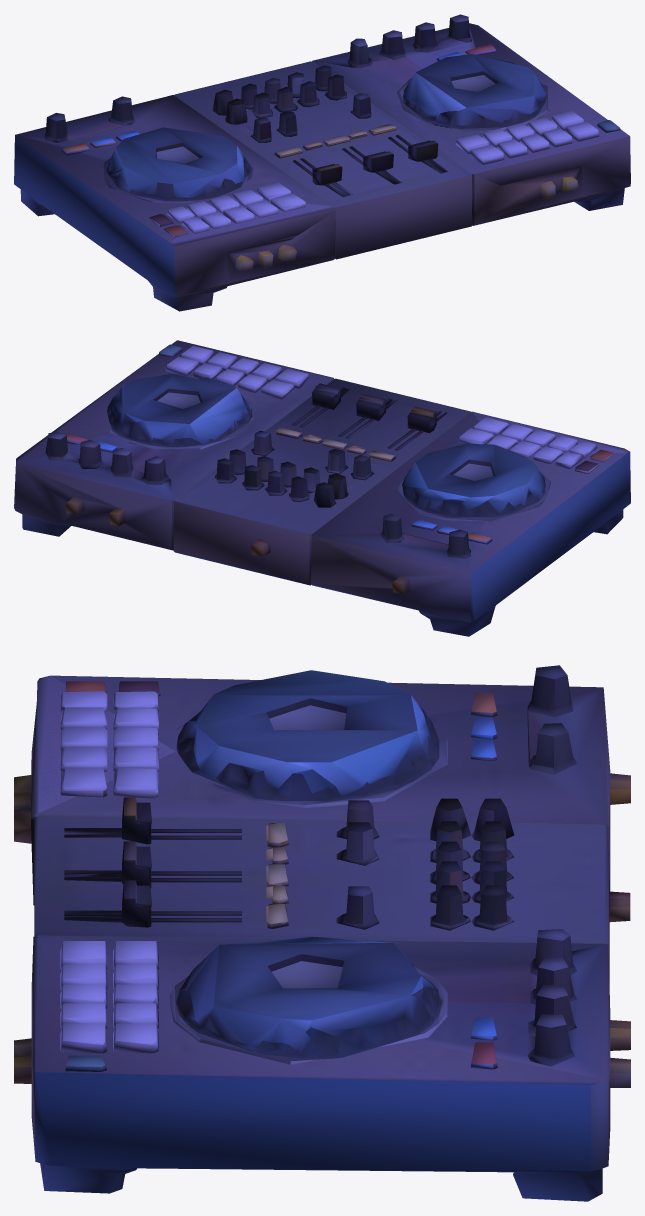
Rendered from model.progressive.glb.
The picture shows the model from 3 angles, top to bottom: view 1: azimuth 30°, elevation 25°; view 2: azimuth 150°, elevation 25°; view 3: azimuth 270°, elevation 25°; orthographic projection. The views are drawn at different scales.
Parts seen in each view (by area): view 1: material; view 2: material; view 3: material.
Boxes of the visible parts, x1,y1,x2,y2 form: material: (14, 14, 630, 311); material: (14, 340, 630, 636); material: (14, 665, 630, 1201).
Bounding box in the file's own units: 1.9 × 0.3553 × 1.23.
Materials: 1 (1 with a texture image).
